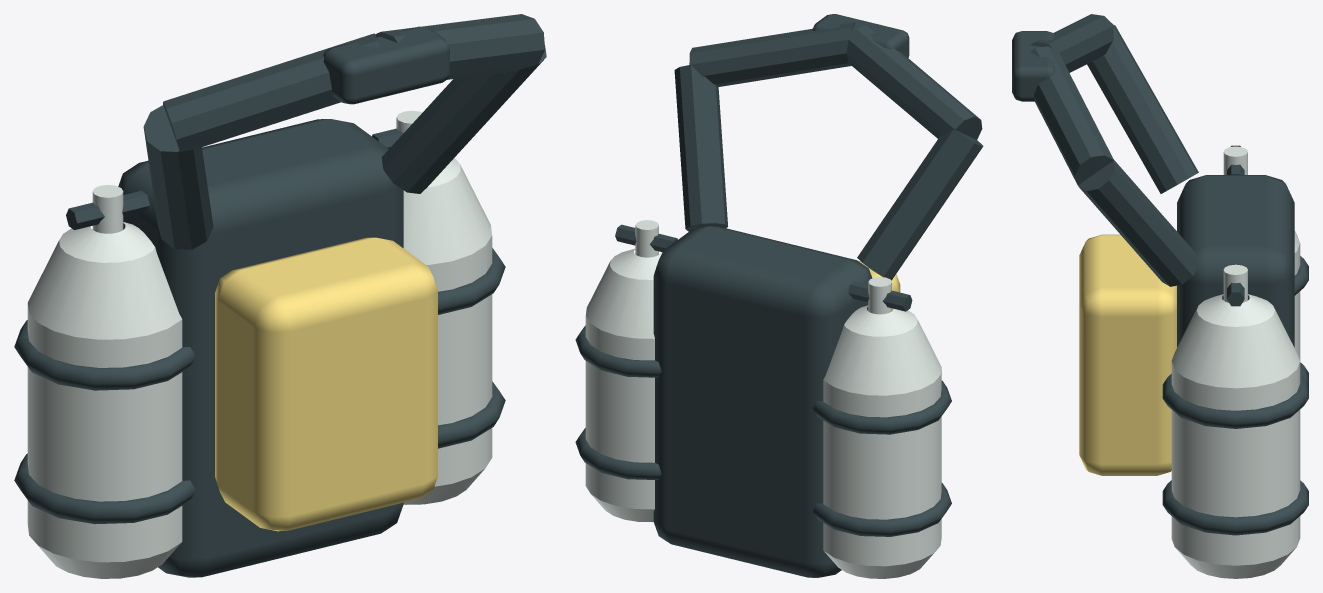
The model's file is diving-and-underwater-salvage-rebreather-pack-beeff67d__28445.glb.
3 renders of one model, left to right at view 1: azimuth 30°, elevation 25°; view 2: azimuth 150°, elevation 25°; view 3: azimuth 270°, elevation 25°, orthographic. The views are drawn at different scales.
Visible parts, largest first — view 1: rebreather-pack-dark, rebreather-pack-pale, rebreather-pack-yellow; view 2: rebreather-pack-dark, rebreather-pack-pale; view 3: rebreather-pack-dark, rebreather-pack-pale, rebreather-pack-yellow.
Part boxes in pixels (x1,y1,x2,y2): rebreather-pack-dark: (14,14,546,577); rebreather-pack-pale: (27,110,492,578); rebreather-pack-yellow: (215,237,437,531); rebreather-pack-dark: (575,14,983,577); rebreather-pack-pale: (585,220,941,578); rebreather-pack-dark: (1012,14,1308,535); rebreather-pack-pale: (1171,146,1300,578); rebreather-pack-yellow: (1079,234,1176,475).
Bounding box in the file's own units: 0.768 × 0.9368 × 0.5307.
